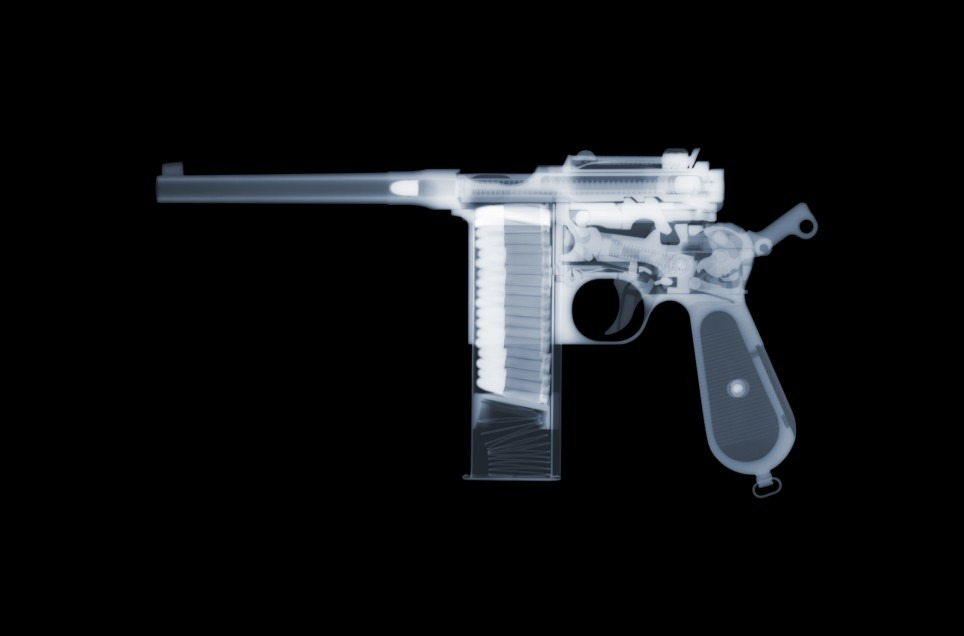gun: (146, 150, 834, 505)
